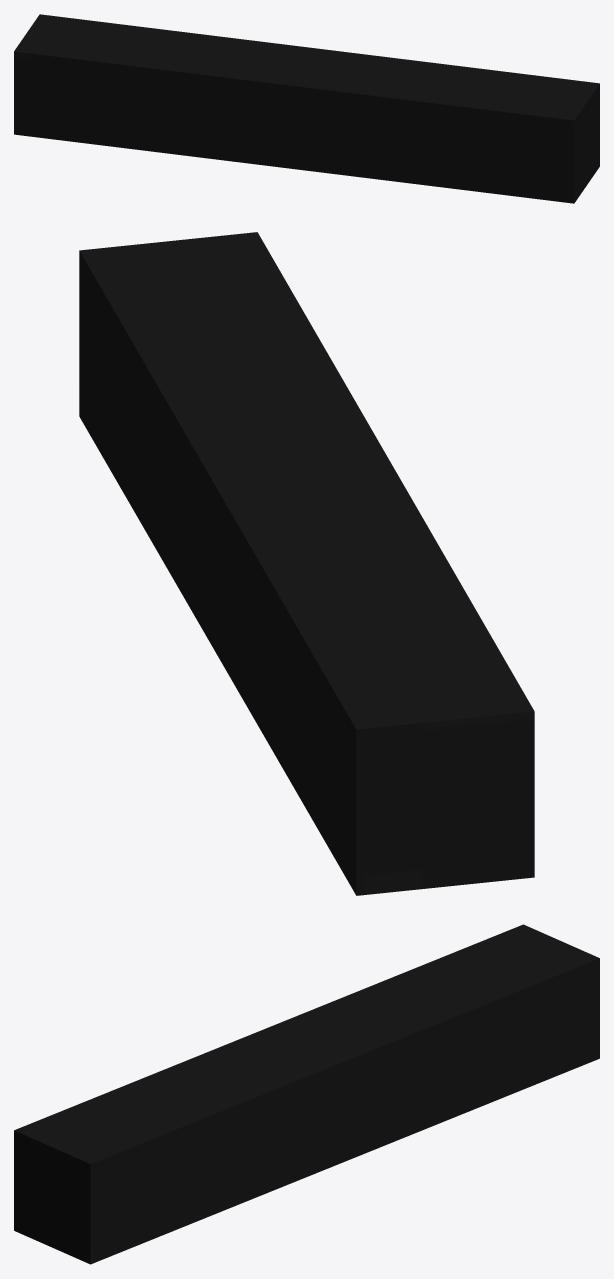
The model's file is frame__tower_brace_1.glb.
The picture shows the model from 3 angles, top to bottom: view 1: azimuth 30°, elevation 25°; view 2: azimuth 150°, elevation 25°; view 3: azimuth 270°, elevation 25°; orthographic projection. The views are drawn at different scales.
Parts seen in each view (by area): view 1: world; view 2: world; view 3: world.
Boxes of the visible parts, x1=… form: world: x1=14, y1=14, x2=599, y2=203; world: x1=79, y1=232, x2=534, y2=895; world: x1=14, y1=924, x2=599, y2=1264.
Size of the model in its own units: 0.2561 by 0.05 by 0.2646.
Materials: 1 (1 with a texture image).
